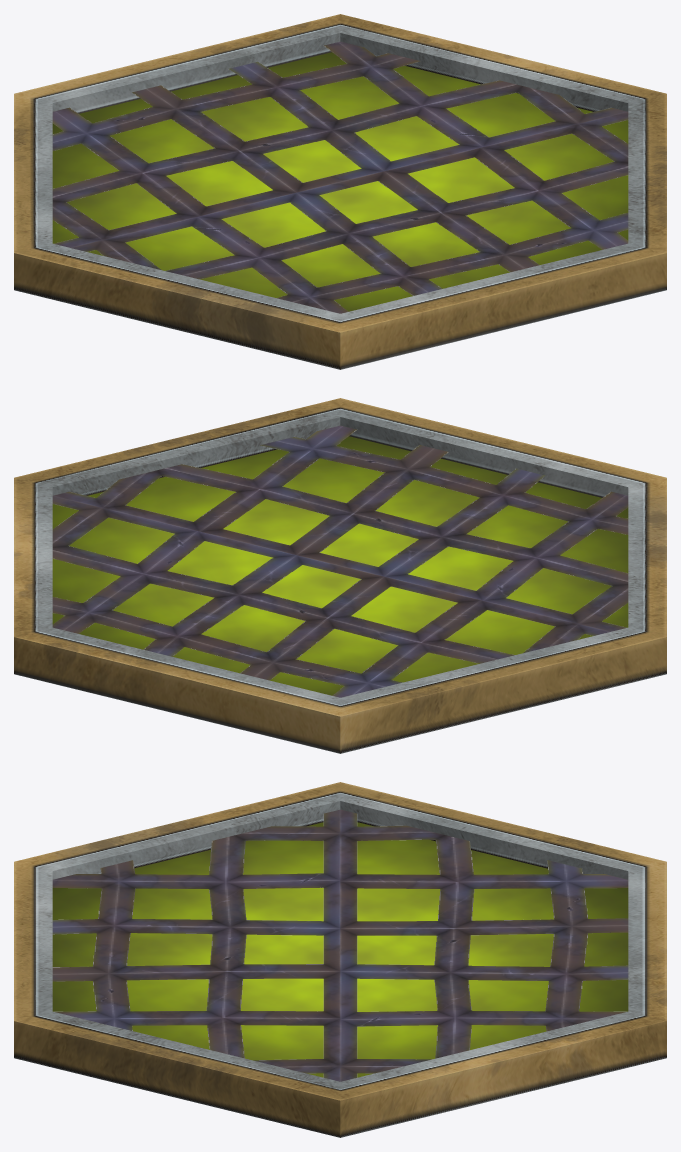
The model's file is Trap3.fbx.
3 renders of one model, top to bottom at view 1: azimuth 30°, elevation 25°; view 2: azimuth 150°, elevation 25°; view 3: azimuth 270°, elevation 25°, orthographic.
Visible parts, largest first — view 1: polySurface32, polySurface31, polySurface33; view 2: polySurface32, polySurface31, polySurface33; view 3: polySurface32, polySurface31, polySurface33.
Part boxes in pixels (x1=…): polySurface32: x1=14, y1=14, x2=666, y2=369; polySurface31: x1=52, y1=41, x2=628, y2=313; polySurface33: x1=52, y1=52, x2=628, y2=311; polySurface32: x1=14, y1=398, x2=666, y2=753; polySurface31: x1=52, y1=425, x2=628, y2=697; polySurface33: x1=52, y1=436, x2=628, y2=695; polySurface32: x1=14, y1=782, x2=666, y2=1137; polySurface31: x1=52, y1=809, x2=628, y2=1081; polySurface33: x1=52, y1=822, x2=628, y2=1077.
Bounding box in the file's own units: 5.92 × 0.3218 × 5.12.
2 materials, 2 textured.
